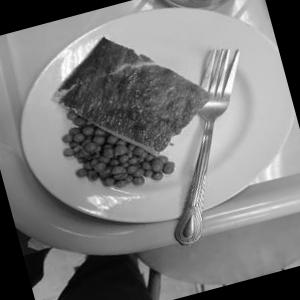casserole: (33, 10, 231, 204)
